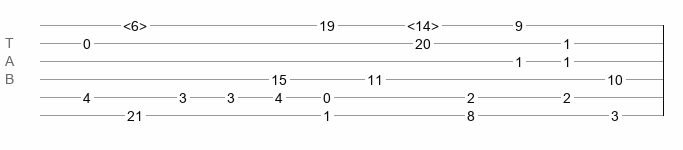0: (83, 36, 91, 46), (323, 90, 331, 100)
1: (323, 108, 331, 118), (515, 54, 523, 64), (563, 54, 571, 64), (563, 36, 571, 46)
10: (607, 72, 623, 82)
11: (367, 72, 383, 82)
15: (271, 72, 287, 82)
19: (319, 18, 335, 28)
2: (467, 90, 475, 100), (563, 90, 571, 100)
20: (415, 36, 431, 46)
21: (127, 108, 143, 118)
3: (179, 90, 187, 100), (227, 90, 235, 100), (611, 108, 619, 118)
4: (83, 90, 91, 100), (275, 90, 283, 100)
8: (467, 108, 475, 118)
9: (515, 18, 523, 28)
harmonic: (407, 18, 439, 28), (123, 18, 147, 28)
